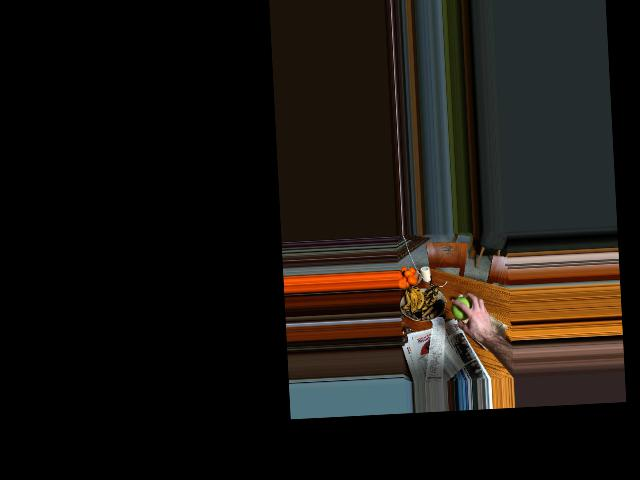apple: (451, 295, 475, 322)
